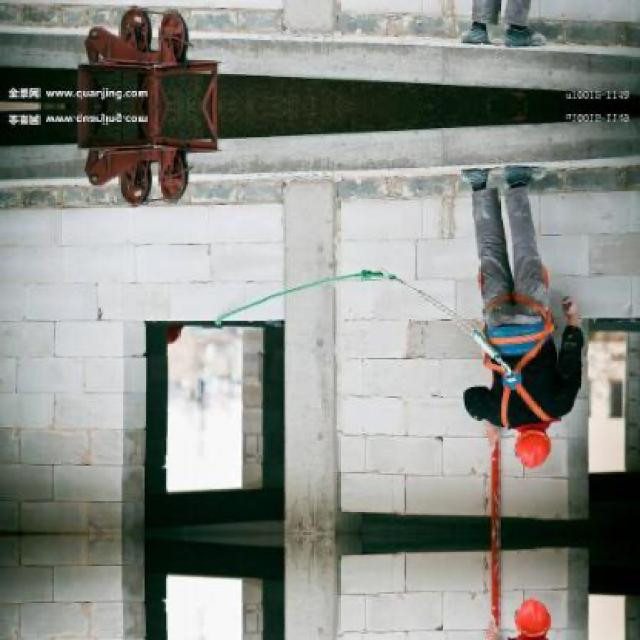con casco: (504, 404, 558, 480)
